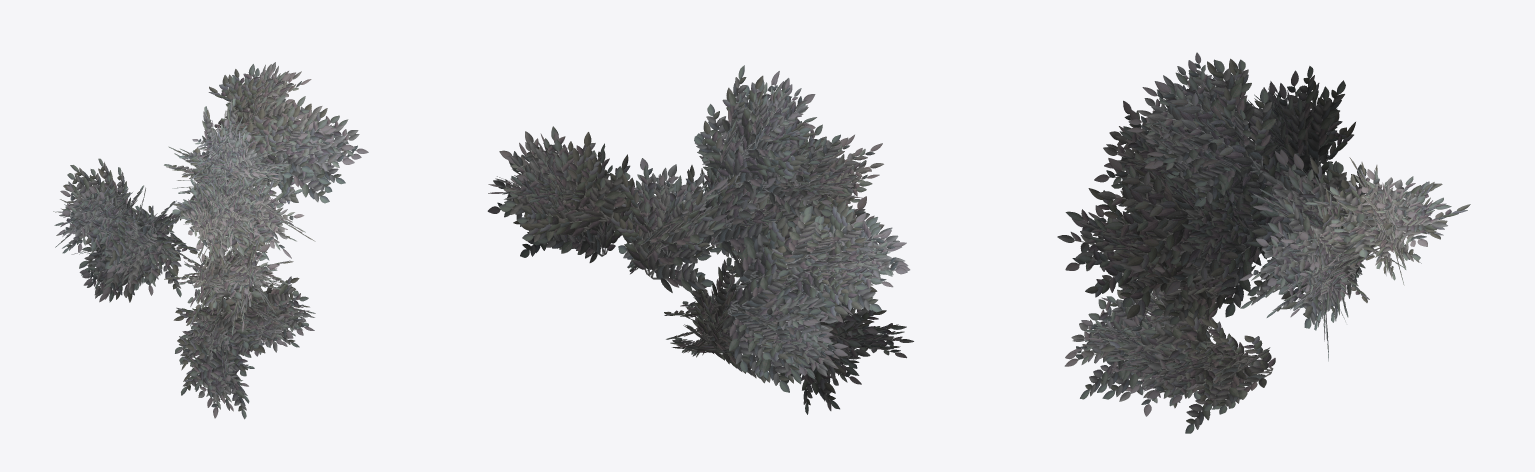
Rendered from oak_wide_l0.gltf.
3 views of the same model, side by side, from view 1: azimuth 30°, elevation 25°; view 2: azimuth 150°, elevation 25°; view 3: azimuth 270°, elevation 25° (orthographic). The views are drawn at different scales.
Visible parts, largest first — view 1: oak_wide_l0; view 2: oak_wide_l0; view 3: oak_wide_l0.
Boxes of the visible parts, bbox=[...] form: oak_wide_l0: bbox=[53, 62, 368, 419]; oak_wide_l0: bbox=[487, 65, 913, 414]; oak_wide_l0: bbox=[1057, 52, 1470, 433].
Size of the model in its own units: 11.31 by 9.83 by 9.97.
Materials: 1 (1 with a texture image).
